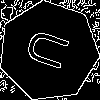U: (23, 26, 79, 76)
